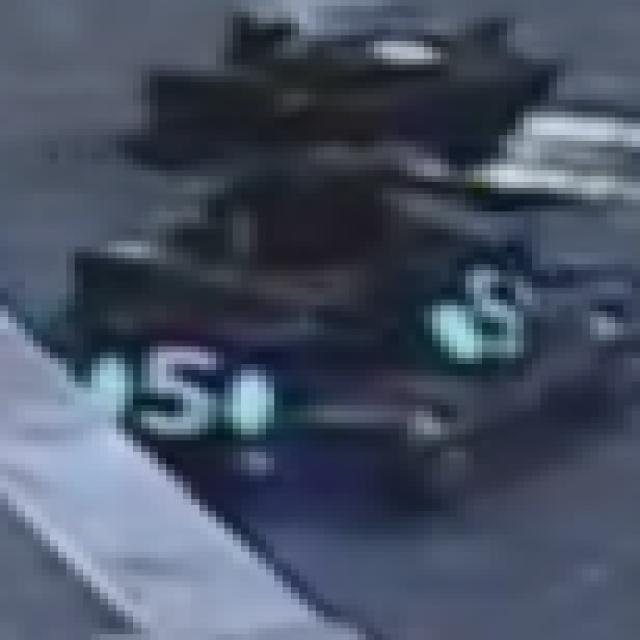B5: (92, 346, 274, 446), (424, 253, 557, 358)
